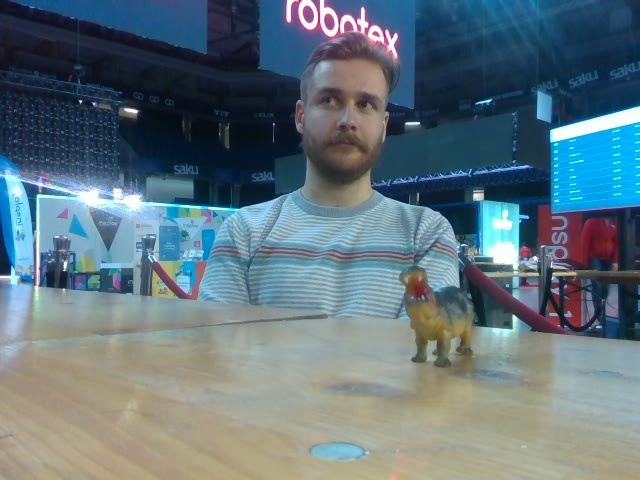toy: (395, 266, 476, 370)
